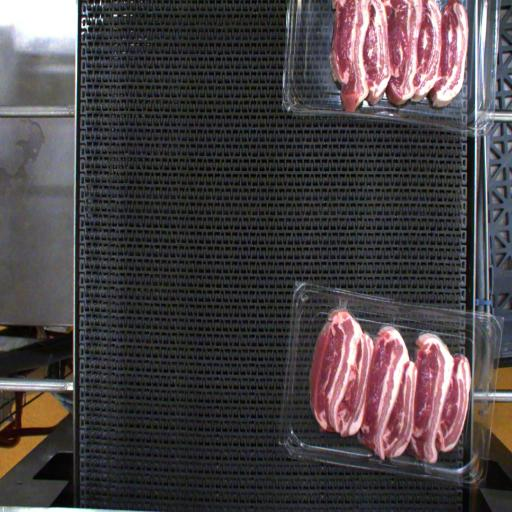packaging-error: (332, 291, 361, 314)
unsealed: (372, 312, 402, 338), (416, 327, 441, 342)
